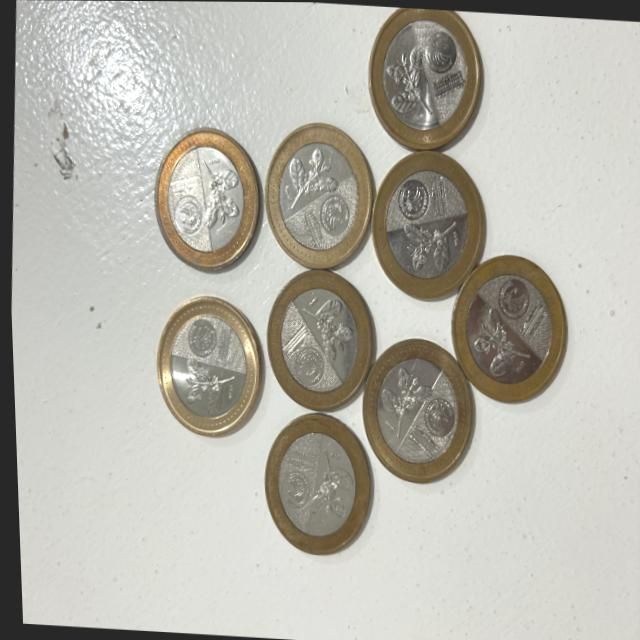20_New_Back: (399, 207, 461, 270), (304, 444, 354, 522), (381, 40, 430, 118), (467, 310, 525, 375), (376, 369, 433, 434), (174, 354, 236, 413), (282, 147, 339, 210), (196, 156, 239, 224), (299, 299, 348, 357)
